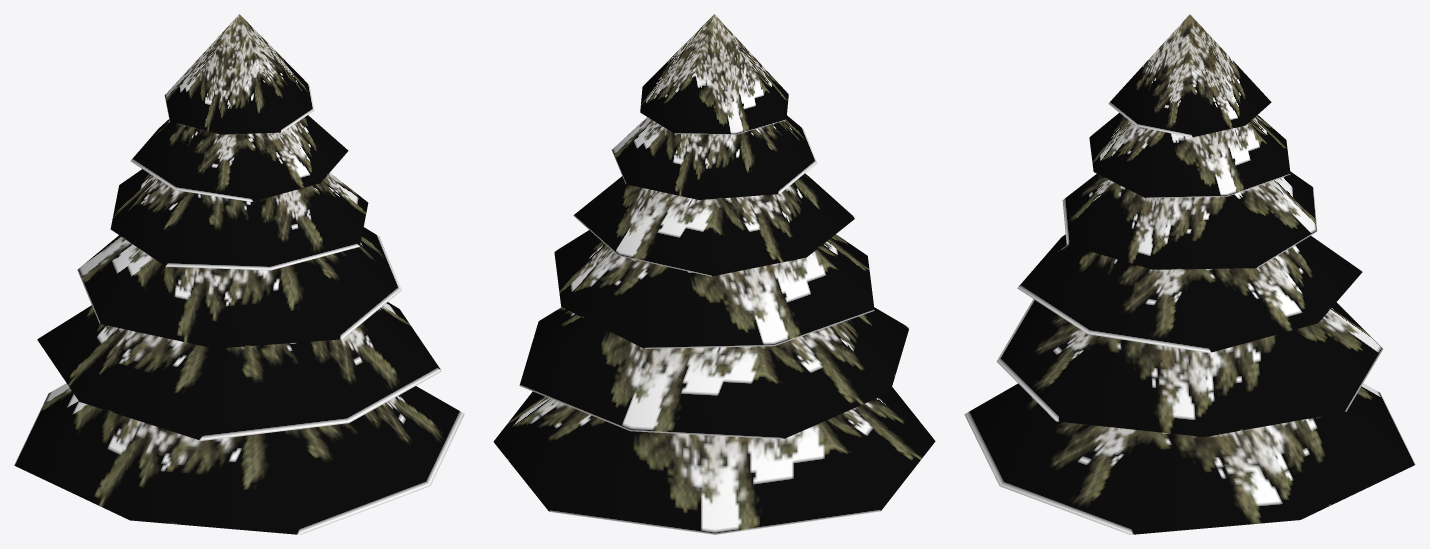
File: pinesno_0.obj
3 views of the same model, side by side, from view 1: azimuth 30°, elevation 25°; view 2: azimuth 150°, elevation 25°; view 3: azimuth 270°, elevation 25° (orthographic).
Parts seen in each view (by area): view 1: pine_0; view 2: pine_0; view 3: pine_0.
Boxes of the visible parts, x1,y1,x2,y2 form: pine_0: (14, 14, 464, 534); pine_0: (493, 14, 935, 534); pine_0: (964, 14, 1415, 534).
Bounding box in the file's own units: 5.02 × 6.06 × 5.02.
